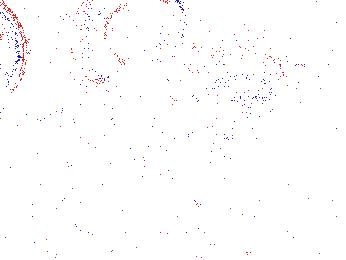moon jellyfish: (104, 42, 234, 170), (96, 1, 189, 73), (199, 44, 286, 99), (271, 50, 346, 112), (68, 1, 118, 85), (1, 1, 27, 101)
